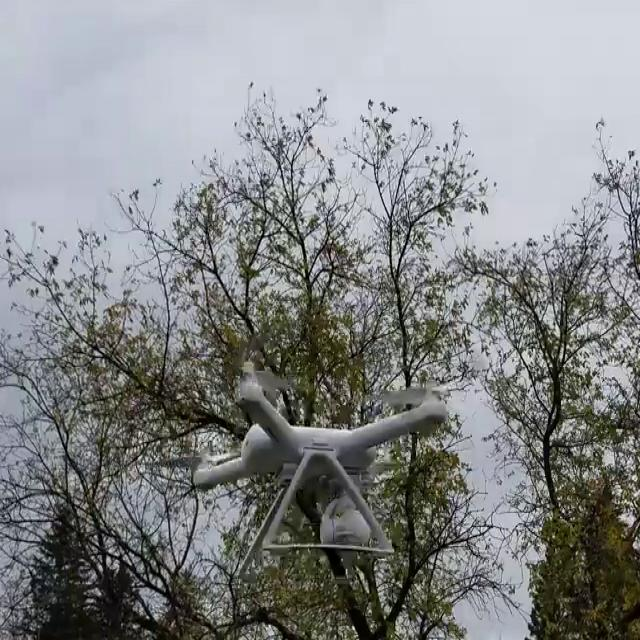drone: (156, 354, 474, 522)
